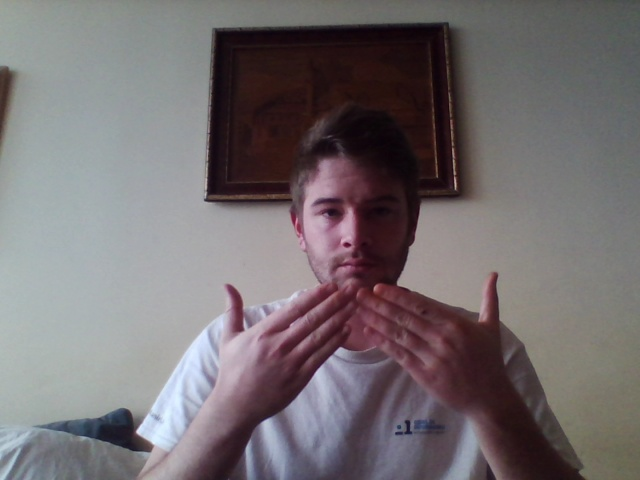hvala: (220, 270, 504, 421)
